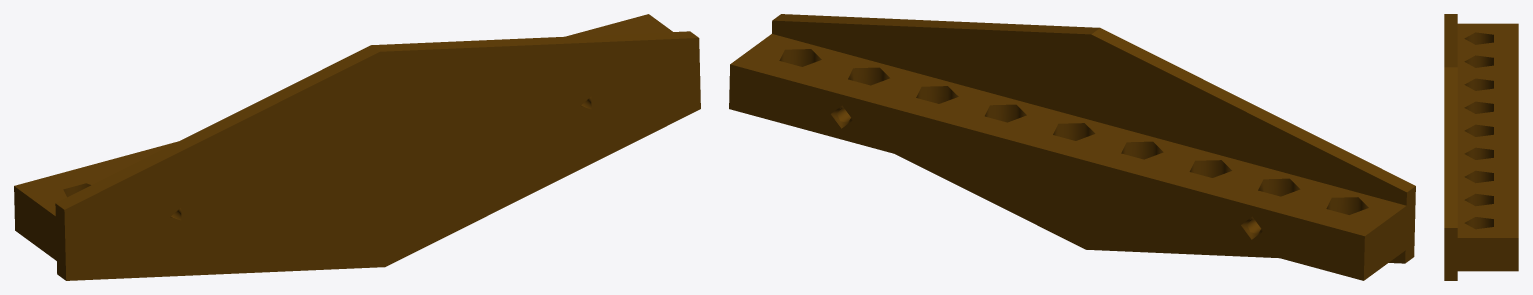
The model's file is Attache balancier.obj.
3 views of the same model, side by side, from view 1: azimuth 30°, elevation 25°; view 2: azimuth 150°, elevation 25°; view 3: azimuth 270°, elevation 25° (orthographic). The views are drawn at different scales.
Parts seen in each view (by area): view 1: Face_9, Face_4, Face_10, Face_3, Face_5; view 2: Face_8, Face_12, Face_10, Face_1, Face_4, Face_3, Face_5, Face_17, Face_19, Face_15, Face_13, Face_18 (+4 smaller); view 3: Face_10, Face_6, Face_5, Face_4, Face_14, Face_15, Face_16, Face_17, Face_13, Face_18, Face_19, Face_20 (+1 smaller).
Boxes of the visible parts, x1,y1,x2,y2 form: Face_9: (64, 38, 700, 280); Face_4: (55, 45, 379, 209); Face_10: (14, 14, 672, 215); Face_3: (14, 186, 66, 280); Face_5: (371, 31, 698, 51); Face_8: (772, 20, 1406, 205); Face_12: (729, 64, 1364, 280); Face_10: (730, 34, 1406, 236); Face_1: (895, 154, 1405, 263); Face_4: (1091, 28, 1415, 192); Face_3: (1363, 186, 1415, 280); Face_5: (772, 14, 1099, 34); Face_17: (1326, 197, 1368, 214); Face_19: (916, 86, 958, 103); Face_15: (1189, 160, 1231, 177); Face_13: (1053, 123, 1095, 140); Face_18: (985, 104, 1026, 122); Face_10: (1457, 23, 1518, 237); Face_6: (1444, 228, 1518, 280); Face_5: (1444, 67, 1457, 227); Face_4: (1444, 14, 1457, 67); Face_14: (1464, 101, 1493, 113); Face_15: (1464, 78, 1493, 90); Face_16: (1464, 55, 1493, 67); Face_17: (1464, 32, 1493, 44); Face_13: (1464, 124, 1493, 136); Face_18: (1464, 147, 1493, 159); Face_19: (1464, 170, 1493, 183); Face_20: (1464, 193, 1493, 206).
Size of the model in its own units: 0.0652 by 0.0212 by 0.009.
